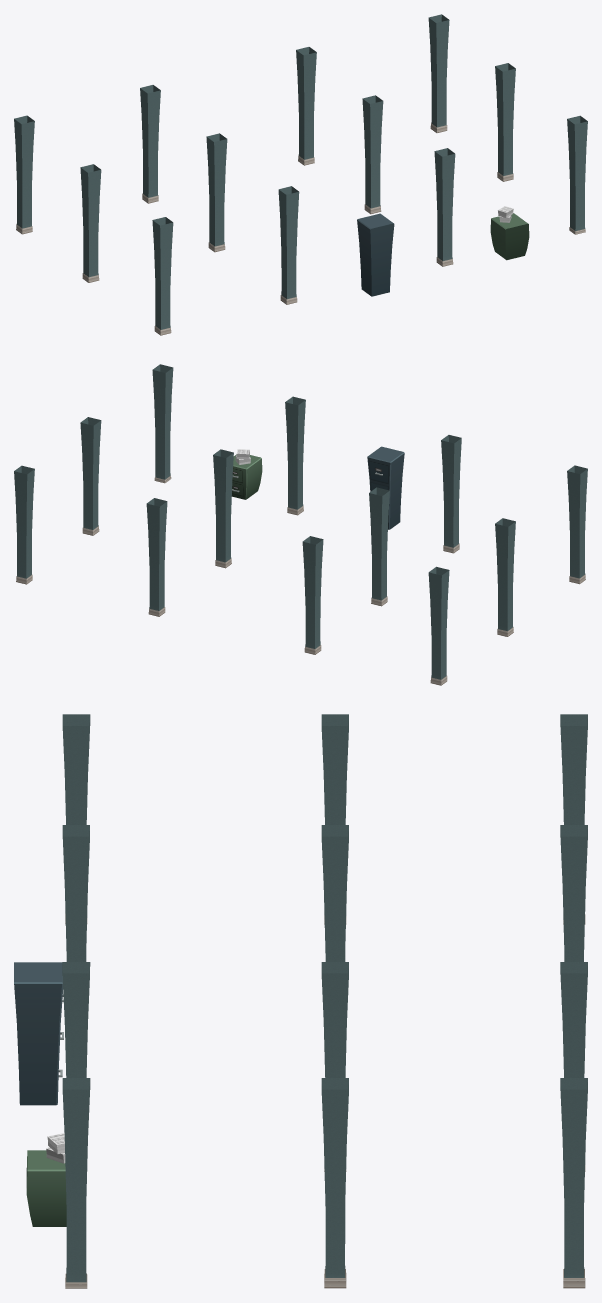
The model's file is SM_Pillars.fbx.
3 renders of one model, top to bottom at view 1: azimuth 30°, elevation 25°; view 2: azimuth 150°, elevation 25°; view 3: azimuth 270°, elevation 25°, orthographic. The views are drawn at different scales.
Visible parts, largest first — view 1: SM_Pillars; view 2: SM_Pillars; view 3: SM_Pillars.
Boxes of the visible parts, bbox=[...] form: SM_Pillars: bbox=[14, 14, 587, 335]; SM_Pillars: bbox=[14, 364, 587, 685]; SM_Pillars: bbox=[14, 714, 587, 1288].
Bounding box in the file's own units: 1384 × 344 × 894.
Materials: 5 (5 with a texture image).
